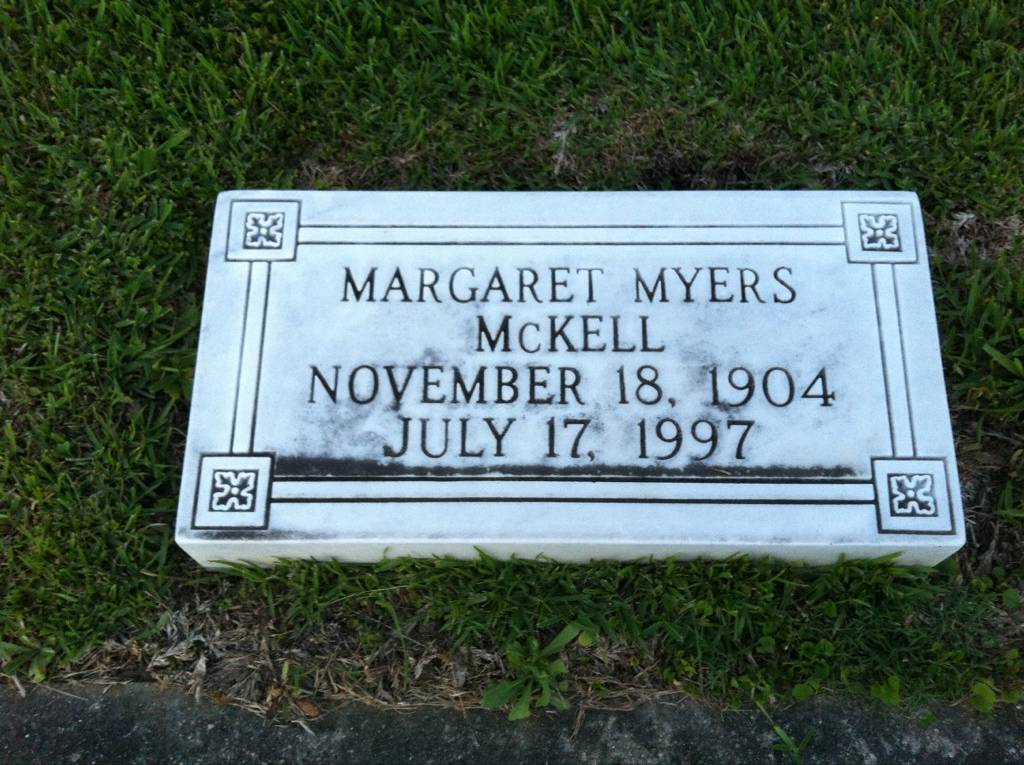flat: (176, 179, 972, 594)
